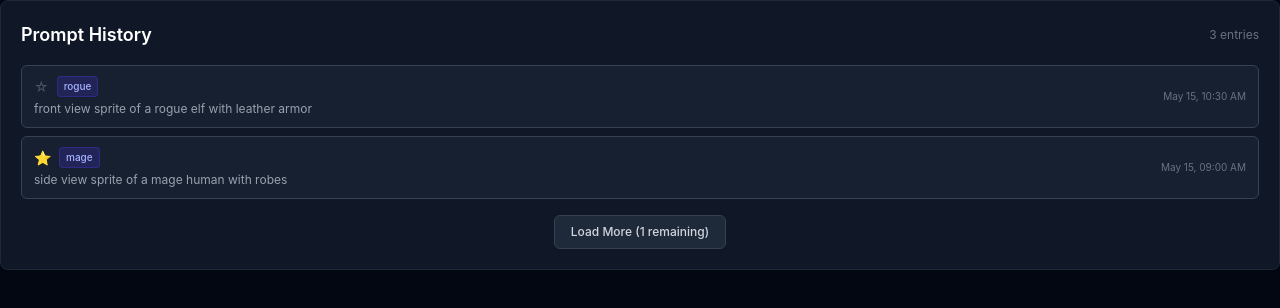
PromptHistory › loads more items when Load More clicked
Click the button "Load More (1 remaining)": {"x": 640, "y": 232} [554,215,726,249]
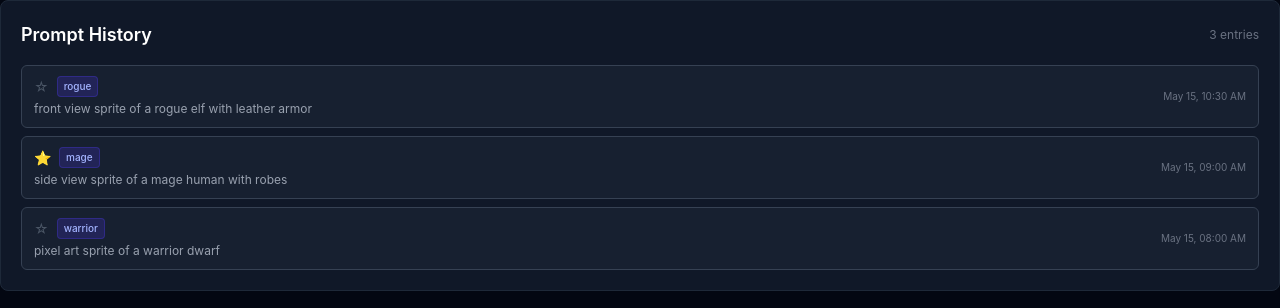
Result: the text "pixel art sprite of a warrior dwarf" is shown at [34,243,220,258]
